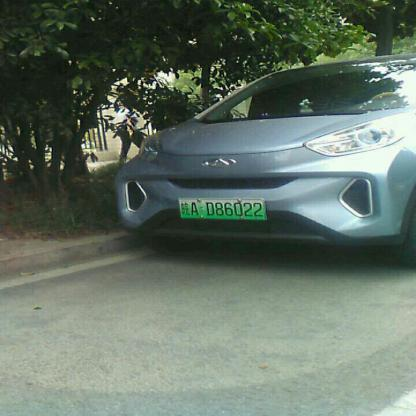lp: (178, 198, 266, 219)
